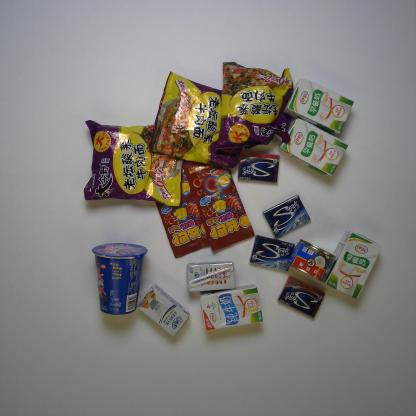Candy: (183, 152, 256, 252), (150, 162, 214, 260)
Canned Food: (289, 238, 337, 283)
Dessert: (92, 242, 148, 315)
Gum: (261, 194, 311, 238), (277, 276, 326, 319), (248, 235, 296, 273), (236, 150, 282, 185)
Instant Noodles: (148, 70, 251, 169), (81, 118, 184, 208), (218, 61, 294, 150)
Milk: (324, 230, 383, 302), (280, 117, 348, 178), (285, 76, 354, 136), (201, 284, 264, 331), (137, 284, 190, 337), (186, 260, 237, 294)
